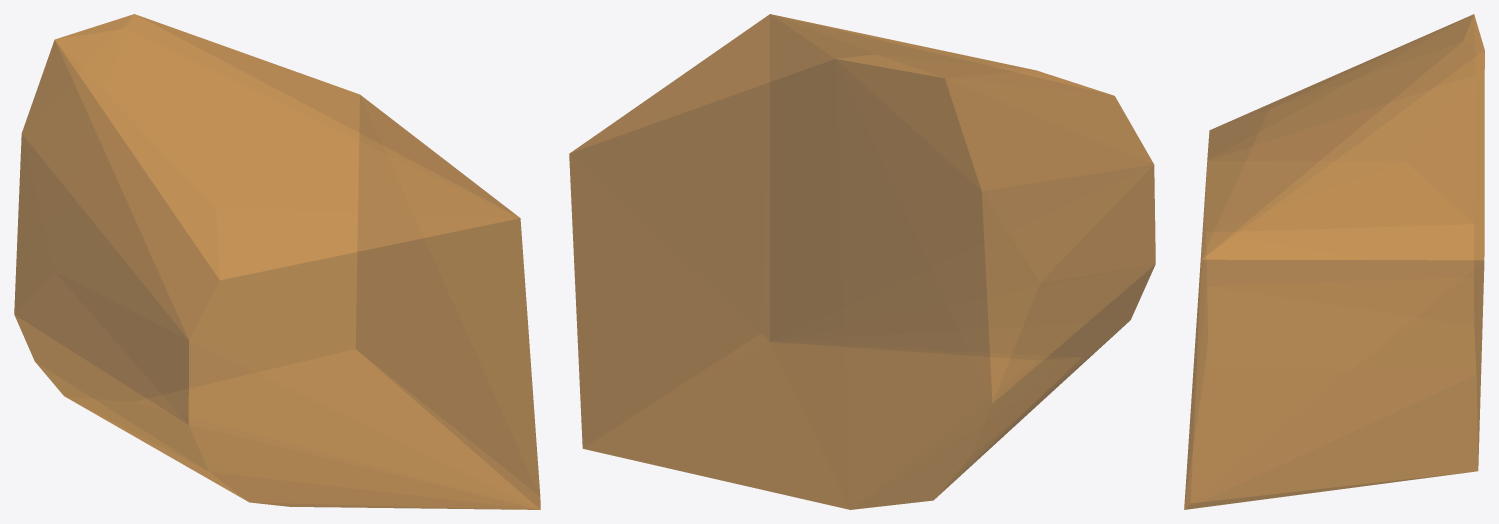
3 renders of one model, left to right at view 1: azimuth 30°, elevation 25°; view 2: azimuth 150°, elevation 25°; view 3: azimuth 270°, elevation 25°, orthographic. The views are drawn at different scales.
Visible parts, largest first — view 1: Shape_IndexedFaceSet.011_Shape_IndexedFaceSet.15624; view 2: Shape_IndexedFaceSet.011_Shape_IndexedFaceSet.15624; view 3: Shape_IndexedFaceSet.011_Shape_IndexedFaceSet.15624.
Boxes of the visible parts, <box> form: Shape_IndexedFaceSet.011_Shape_IndexedFaceSet.15624: <box>14,14,540,509</box>; Shape_IndexedFaceSet.011_Shape_IndexedFaceSet.15624: <box>569,14,1155,509</box>; Shape_IndexedFaceSet.011_Shape_IndexedFaceSet.15624: <box>1184,14,1484,509</box>.
Bounding box in the file's own units: 0.3036 × 0.3407 × 0.2555.
